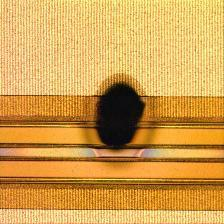PO CONTAMINATION: (77, 72, 165, 160)
